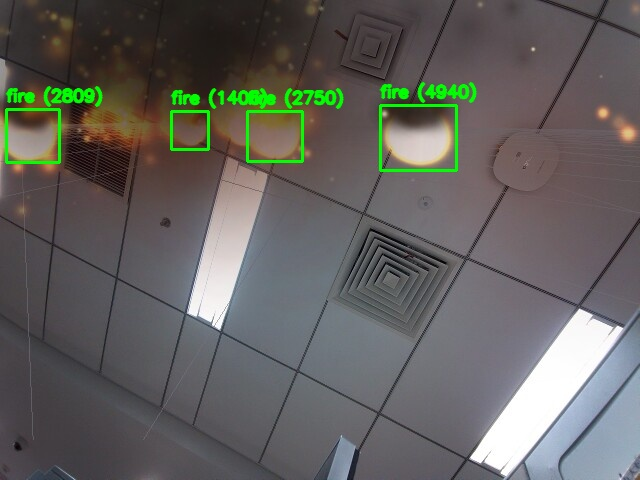fire: (380, 105, 456, 170), (6, 109, 59, 162), (247, 111, 302, 161), (171, 111, 208, 149)
